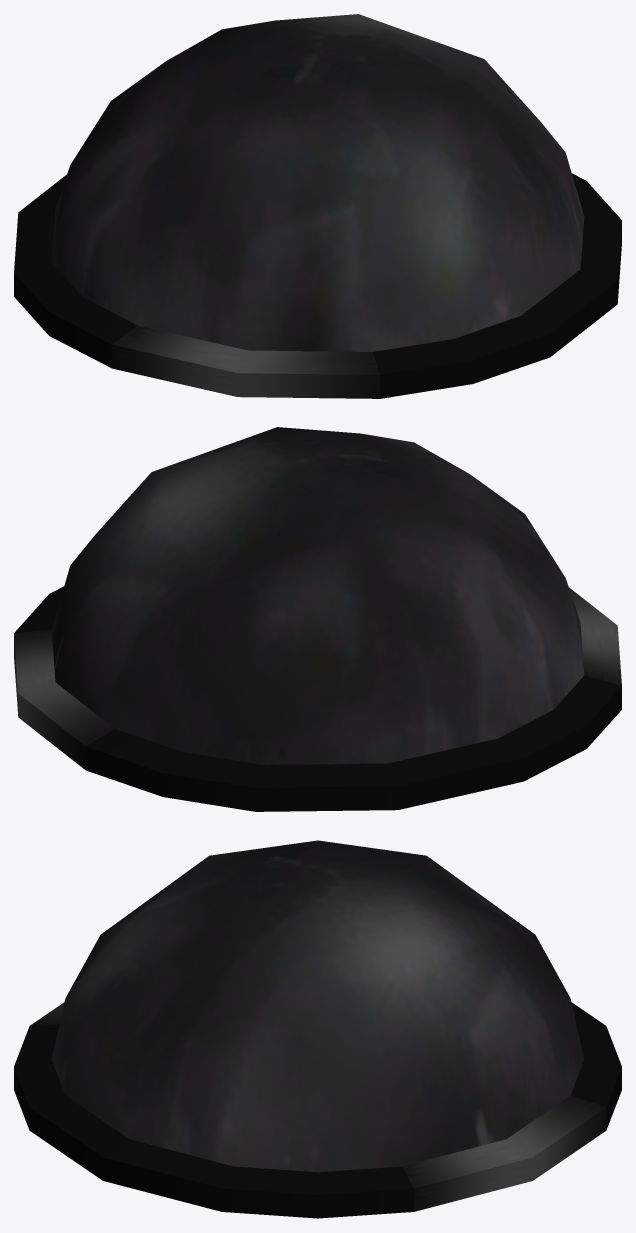
Rendered from dome_camera.fbx.
The picture shows the model from 3 angles, top to bottom: view 1: azimuth 30°, elevation 25°; view 2: azimuth 150°, elevation 25°; view 3: azimuth 270°, elevation 25°; orthographic projection. The views are drawn at different scales.
Parts seen in each view (by area): view 1: mesh_0; view 2: mesh_0; view 3: mesh_0.
Part boxes in pixels (bbox=[...]): mesh_0: bbox=[14, 14, 621, 398]; mesh_0: bbox=[14, 427, 621, 811]; mesh_0: bbox=[14, 840, 621, 1218].
Size of the model in its own units: 56.69 by 23.04 by 56.69.
Materials: 1 (1 with a texture image).
